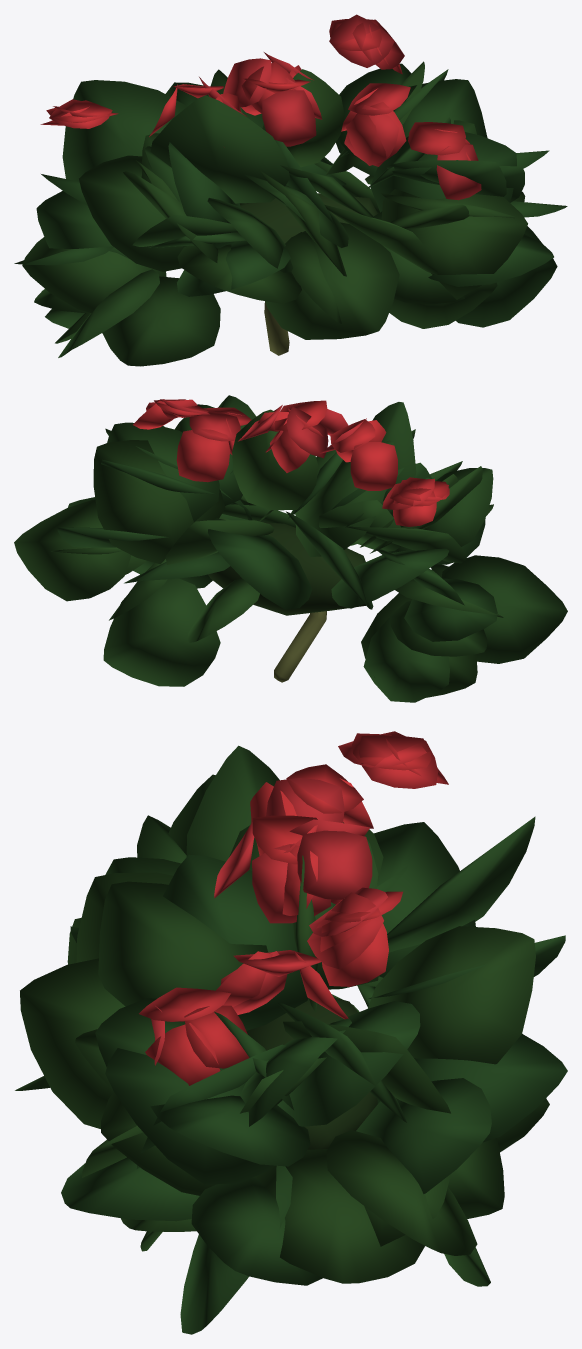
File: box_begonia_red.glb
3 renders of one model, top to bottom at view 1: azimuth 30°, elevation 25°; view 2: azimuth 150°, elevation 25°; view 3: azimuth 270°, elevation 25°, orthographic. The views are drawn at different scales.
Parts seen in each view (by area): view 1: Sammel Pflanze, Sammel Blatt, Sammel Putz; view 2: Sammel Pflanze, Sammel Blatt, Sammel Putz; view 3: Sammel Pflanze, Sammel Blatt.
Part boxes in pixels (left/top/right/bottom): Sammel Pflanze: left=14, top=14, right=567, bottom=366; Sammel Blatt: left=240, top=193, right=377, bottom=243; Sammel Putz: left=264, top=301, right=289, bottom=355; Sammel Pflanze: left=14, top=395, right=567, bottom=702; Sammel Blatt: left=208, top=522, right=365, bottom=615; Sammel Putz: left=274, top=611, right=326, bottom=682; Sammel Pflanze: left=15, top=731, right=567, bottom=1334; Sammel Blatt: left=246, top=997, right=377, bottom=1149.
Size of the model in its own units: 0.337 by 0.1901 by 0.2226.
